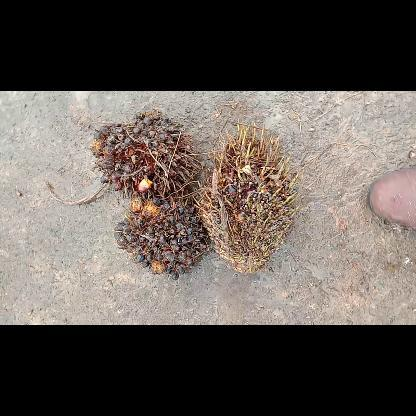TBS abnormal: (194, 119, 298, 272), (92, 112, 200, 198), (116, 201, 210, 279)
